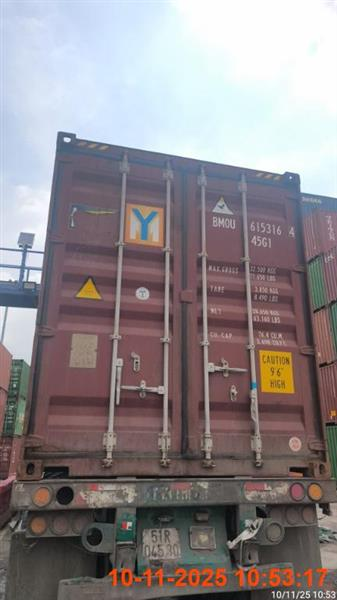rust: (3, 131, 335, 599)
